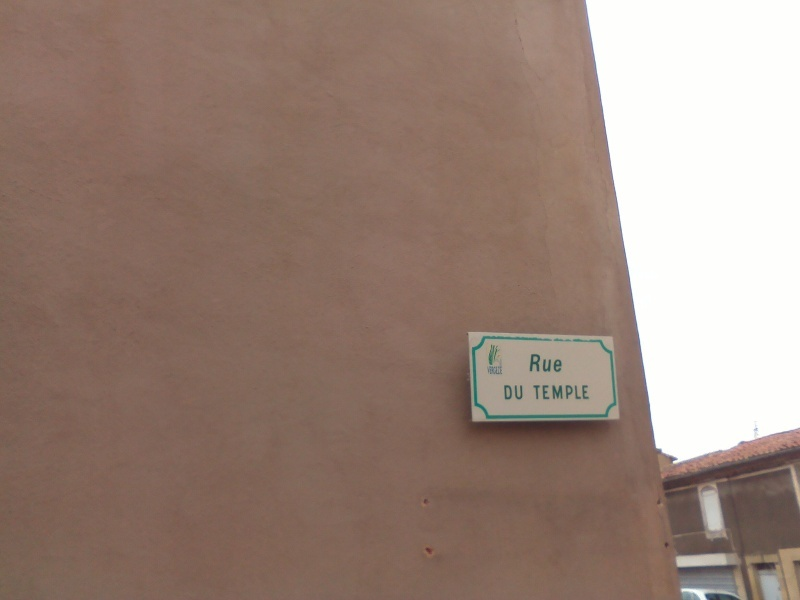text: (545, 353, 560, 372), (545, 384, 560, 401), (561, 384, 576, 401), (531, 353, 544, 372), (577, 384, 590, 401), (533, 384, 544, 401), (513, 385, 524, 401), (504, 385, 512, 401), (487, 367, 496, 375), (497, 367, 503, 375), (561, 353, 563, 372)
